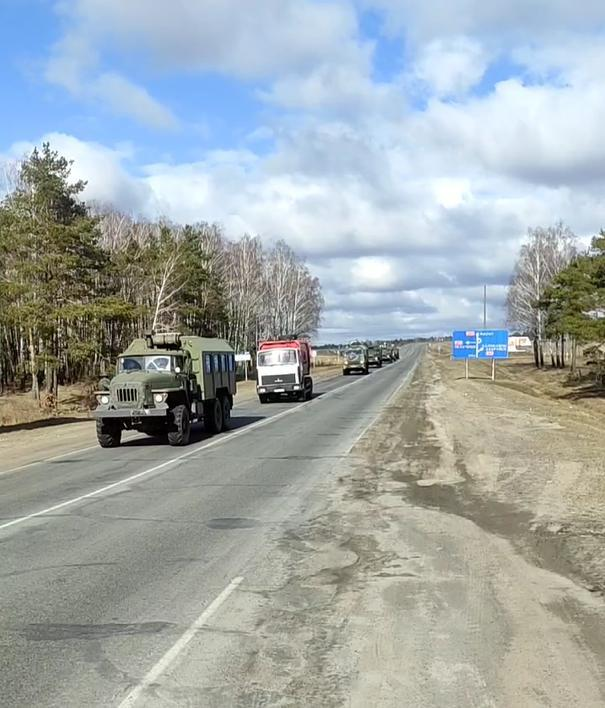truck: (82, 334, 244, 460), (253, 334, 319, 411), (344, 347, 372, 375)
